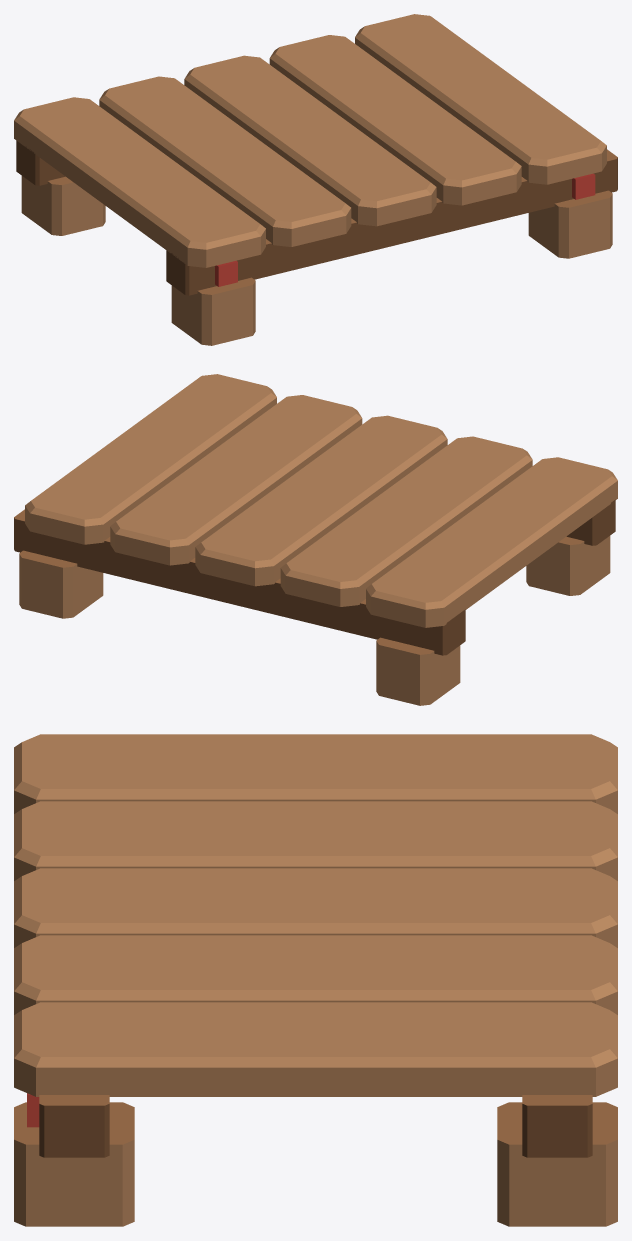
Rendered from FMS_Workshop_FUR_12.fbx.
The picture shows the model from 3 angles, top to bottom: view 1: azimuth 30°, elevation 25°; view 2: azimuth 150°, elevation 25°; view 3: azimuth 270°, elevation 25°; orthographic projection. The views are drawn at different scales.
Visible parts, largest first — view 1: FMS_Workshop_FUR_12_Body; view 2: FMS_Workshop_FUR_12_Body; view 3: FMS_Workshop_FUR_12_Body.
Part boxes in pixels (x1=…): FMS_Workshop_FUR_12_Body: x1=14, y1=14, x2=617, y2=345; FMS_Workshop_FUR_12_Body: x1=14, y1=374, x2=617, y2=705; FMS_Workshop_FUR_12_Body: x1=14, y1=734, x2=617, y2=1226.
Bounding box in the file's own units: 0.8 × 0.18 × 0.6.
Materials: 1 (1 with a texture image).
